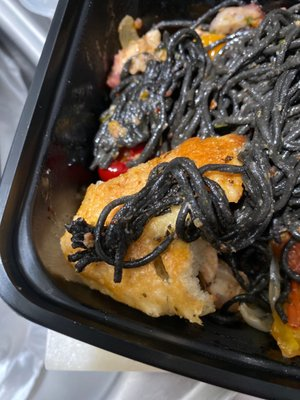sushi: (0, 0, 300, 384)
